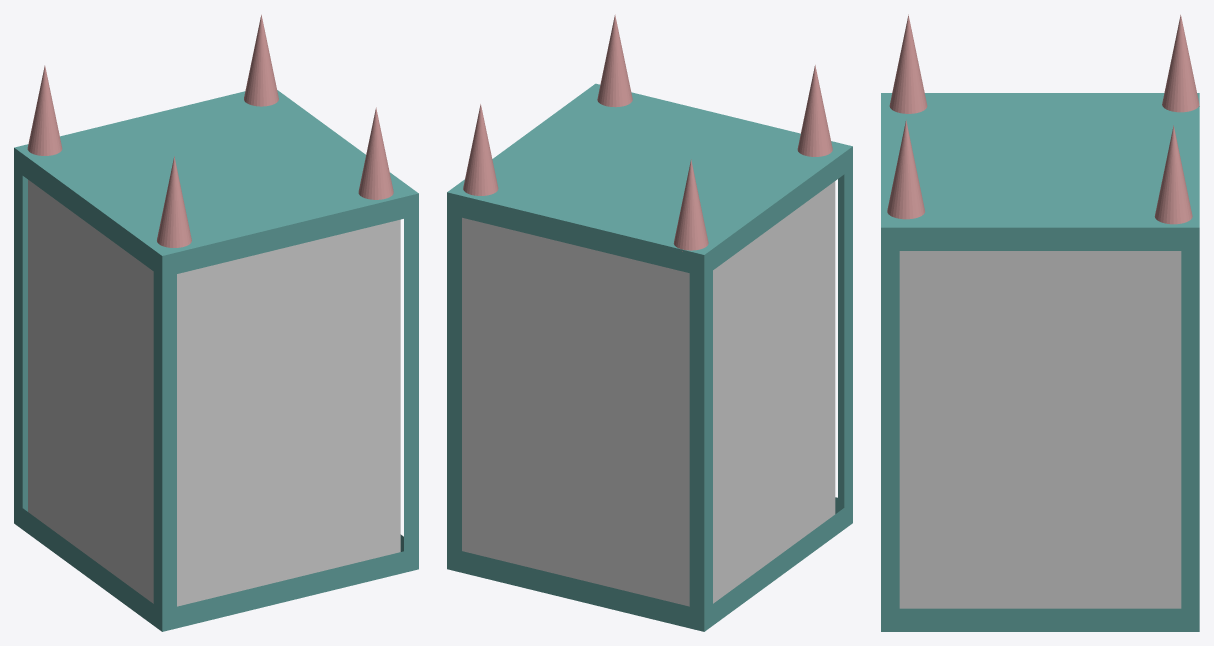
File: Lamp.fbx
3 views of the same model, side by side, from view 1: azimuth 30°, elevation 25°; view 2: azimuth 150°, elevation 25°; view 3: azimuth 270°, elevation 25° (orthographic). The views are drawn at different scales.
Parts seen in each view (by area): view 1: Vidrio, Lamp, Puntas_Superiores; view 2: Vidrio, Lamp, Puntas_Superiores; view 3: Vidrio, Lamp, Puntas_Superiores.
Part boxes in pixels (left/top/right/bottom): Vidrio: left=28, top=180, right=400, bottom=606; Lamp: left=14, top=90, right=418, bottom=631; Puntas_Superiores: left=27, top=14, right=393, bottom=247; Vidrio: left=462, top=181, right=835, bottom=606; Lamp: left=447, top=83, right=852, bottom=631; Puntas_Superiores: left=463, top=14, right=832, bottom=251; Vidrio: left=899, top=251, right=1181, bottom=608; Lamp: left=881, top=93, right=1199, bottom=631; Puntas_Superiores: left=887, top=14, right=1199, bottom=224.
Size of the model in its own units: 50 by 85.92 by 50.02.
